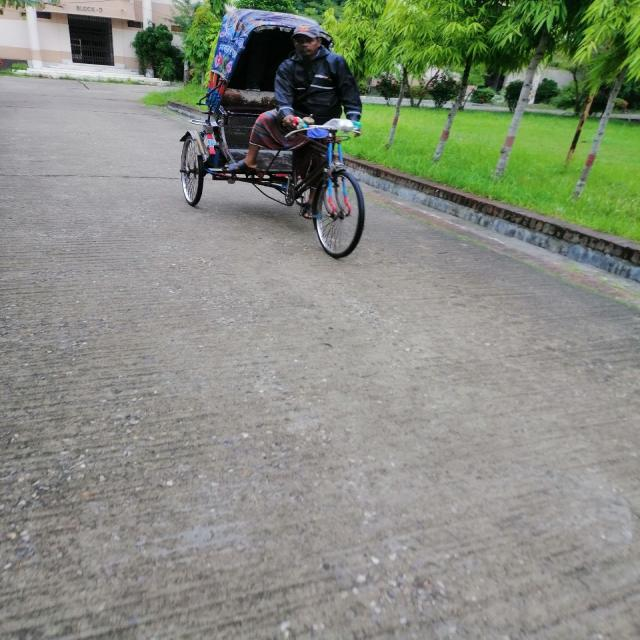Auto-Rickshaw: (161, 5, 389, 262)
